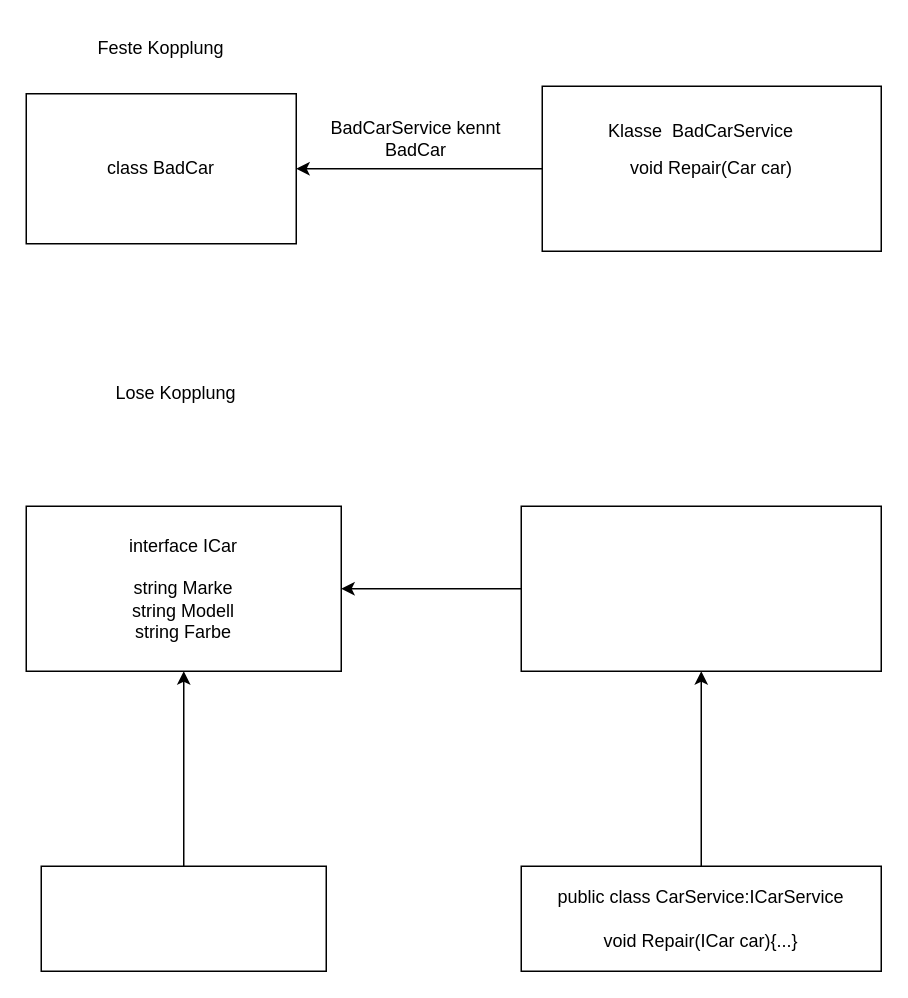
This 908x998 diagram has some shape labels left out. Here are the shapes that lost their labels. From the top down, the centre of each, then its label:
At pixel 700 588: "interface ICarService void Repair(ICar car)".
At pixel 183 918: "class Car : ICar //...ganzen Properties aus ICar".
